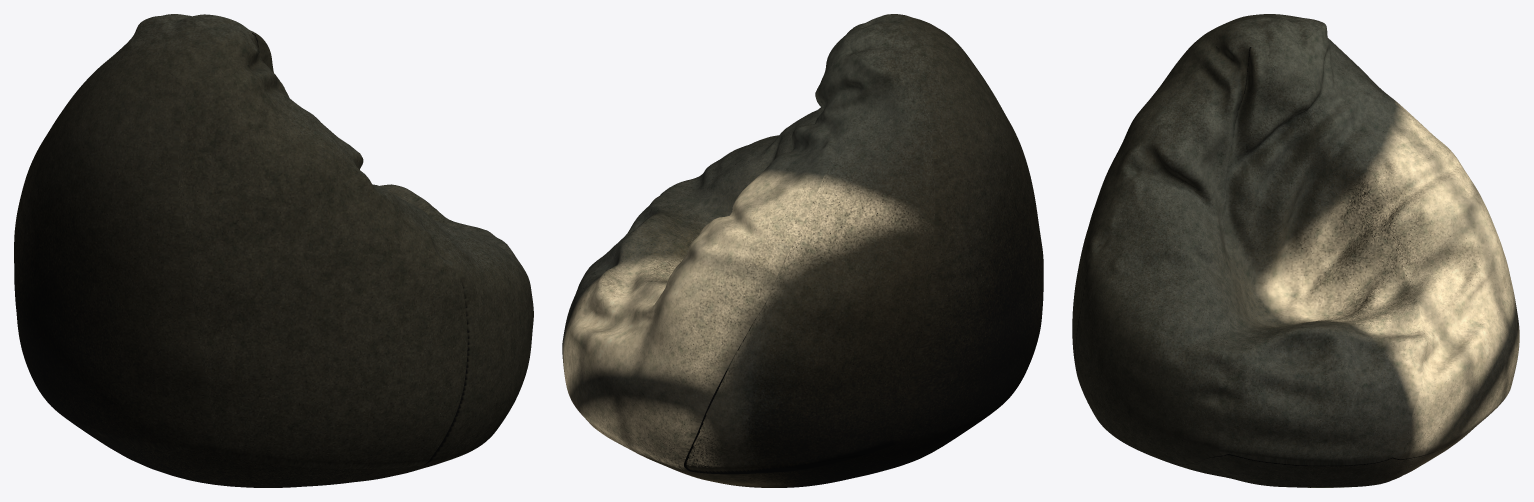
File: beanbag.gltf
3 views of the same model, side by side, from view 1: azimuth 30°, elevation 25°; view 2: azimuth 150°, elevation 25°; view 3: azimuth 270°, elevation 25° (orthographic). The views are drawn at different scales.
Visible parts, largest first — view 1: beanbag; view 2: beanbag; view 3: beanbag.
Part boxes in pixels (bbox=[...]): beanbag: bbox=[14, 14, 533, 487]; beanbag: bbox=[562, 14, 1043, 487]; beanbag: bbox=[1072, 14, 1519, 487].
Bounding box in the file's own units: 0.9987 × 0.9479 × 1.03.
1 material, 1 textured.
